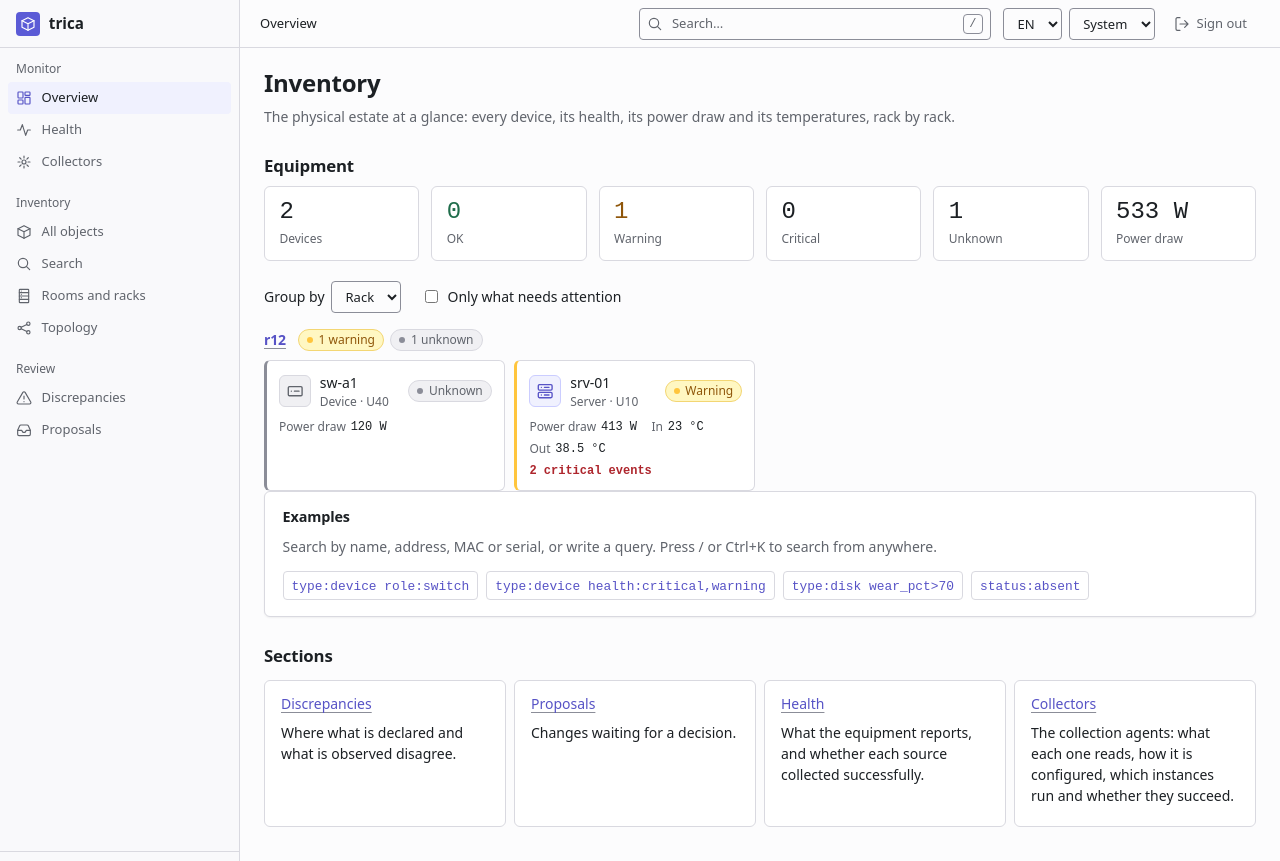
Test: the overview: the physical estate at a glance › can group by kind instead
Expected: the link "sw-a1" is shown, top-left (320, 373), bottom-right (358, 392)
Select "Kind" in the dropdown labelled "Group by". click: (366, 297)
box: top-left (331, 281), bottom-right (401, 313)
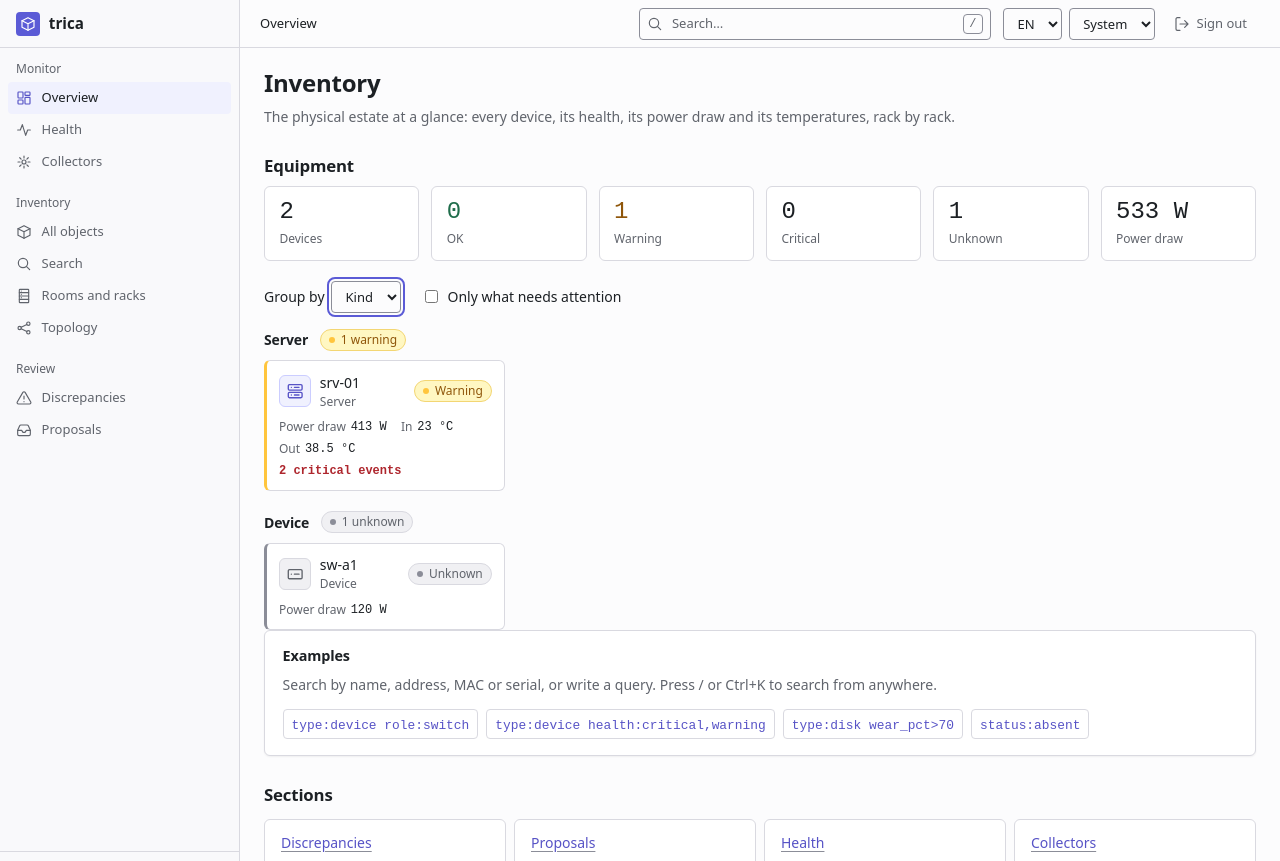
Expected: the heading "Server" is shown, top-left (264, 331), bottom-right (308, 348)
Expected: the heading "Device" is shown, top-left (264, 514), bottom-right (309, 531)
